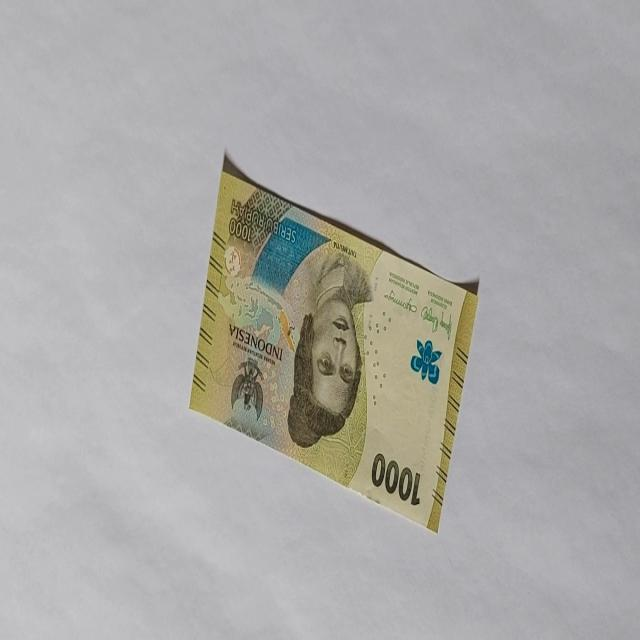seribu rupiah kertas: (188, 150, 480, 534)
